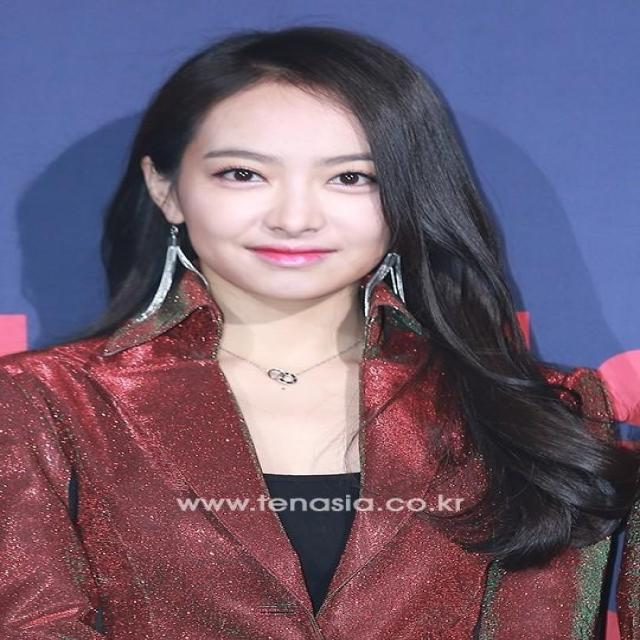face: (181, 76, 405, 302)
